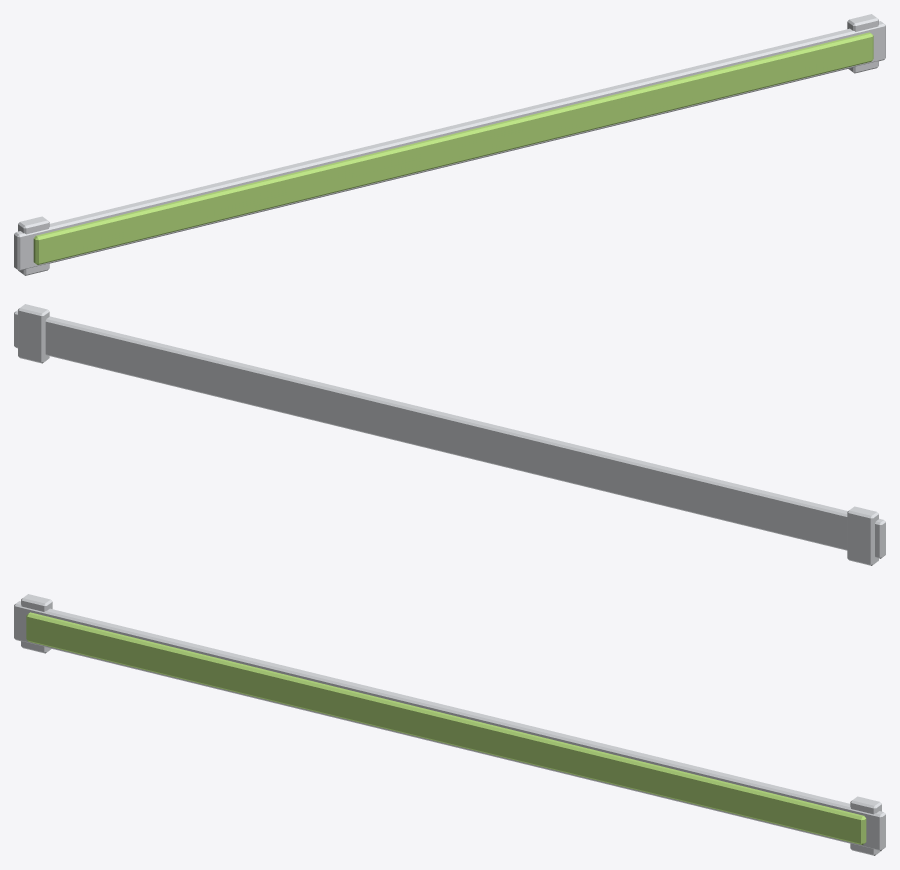
File: laser-tag-arena-and-activity-centre-glow-stripe-trim-l-b16a5a76__34484.glb
3 views of the same model, one above another, from view 1: azimuth 30°, elevation 25°; view 2: azimuth 150°, elevation 25°; view 3: azimuth 330°, elevation 25° (orthographic).
Parts seen in each view (by area): view 1: glow-stripe-trim-lime; view 2: glow-stripe-trim-lime; view 3: glow-stripe-trim-lime.
Part boxes in pixels (x1,y1,x2,y2): glow-stripe-trim-lime: (14, 14, 885, 275); glow-stripe-trim-lime: (14, 304, 885, 565); glow-stripe-trim-lime: (14, 594, 885, 855).
Size of the model in its own units: 2 by 0.1101 by 0.044.
